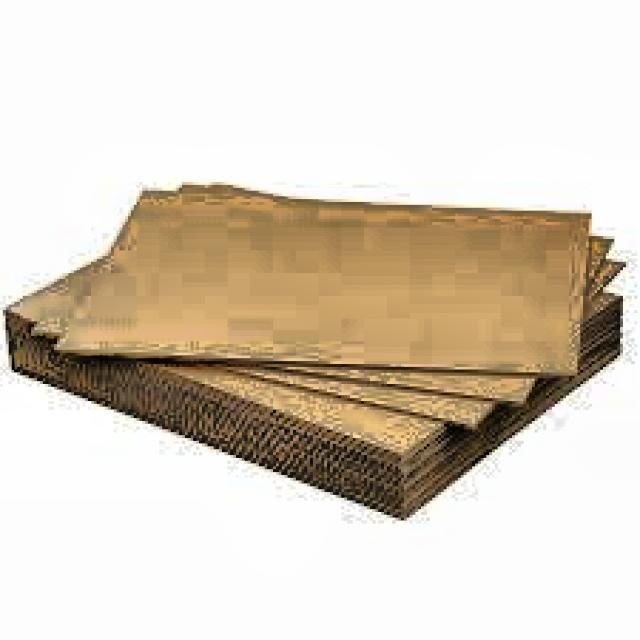Cardbox: (0, 167, 640, 536)
